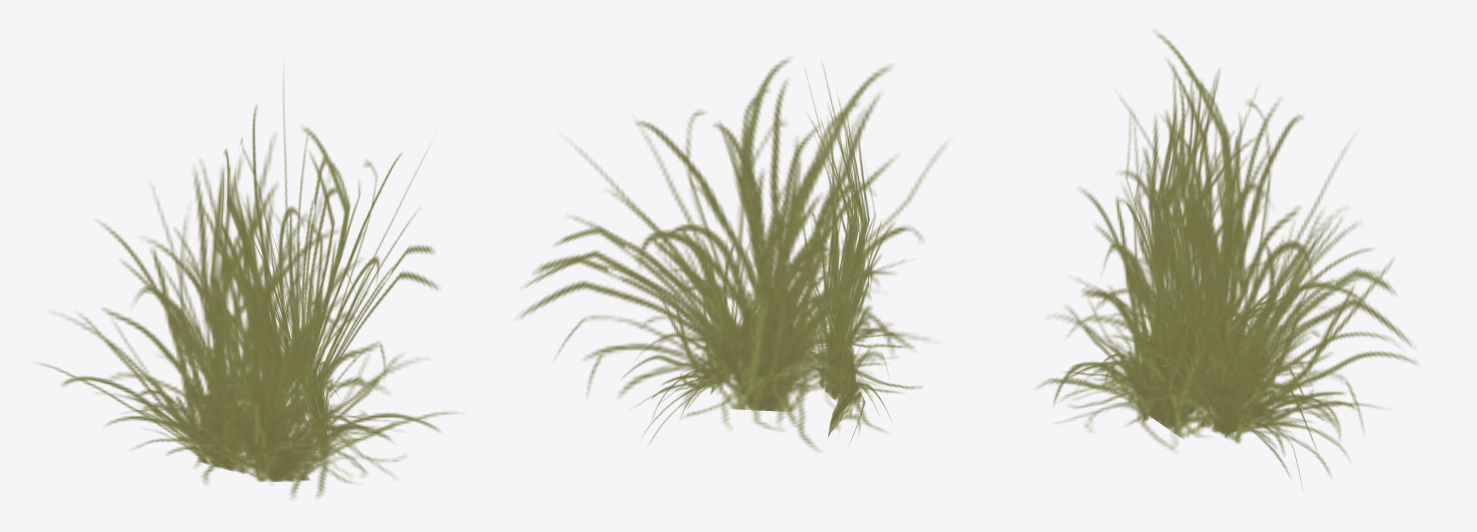
The model's file is ichu_09.glb.
3 renders of one model, left to right at view 1: azimuth 30°, elevation 25°; view 2: azimuth 150°, elevation 25°; view 3: azimuth 270°, elevation 25°, orthographic. The views are drawn at different scales.
Visible parts, largest first — view 1: Ichu; view 2: Ichu; view 3: Ichu.
Boxes of the visible parts, left/top/right/bottom form: Ichu: left=37, top=78, right=458, bottom=499; Ichu: left=520, top=58, right=945, bottom=451; Ichu: left=1037, top=31, right=1417, bottom=488.
Bounding box in the file's own units: 0.3076 × 0.29 × 0.2882.
1 material, 1 textured.
